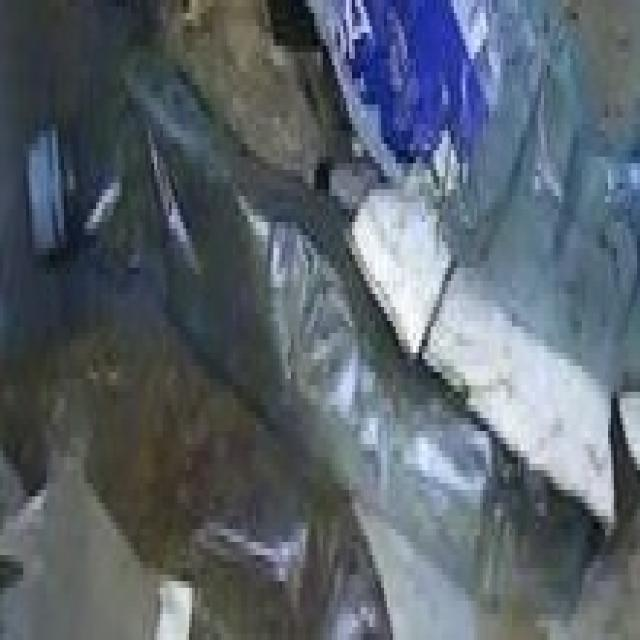litter: (17, 52, 516, 588)
